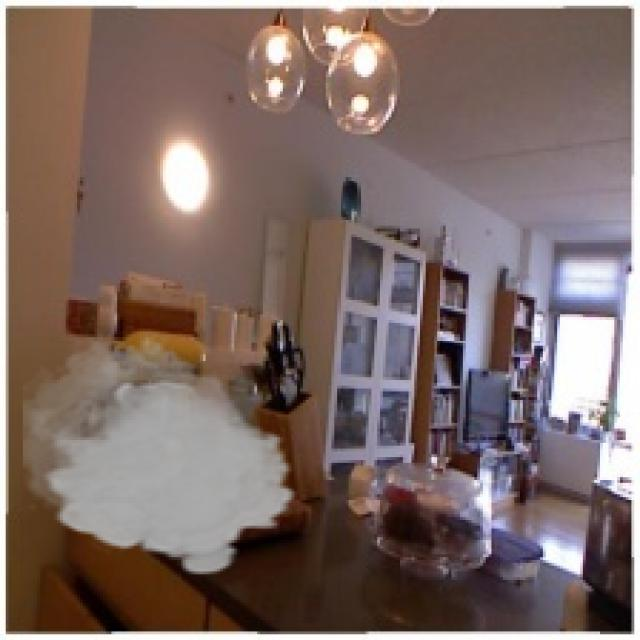smoke: (23, 329, 300, 577)
